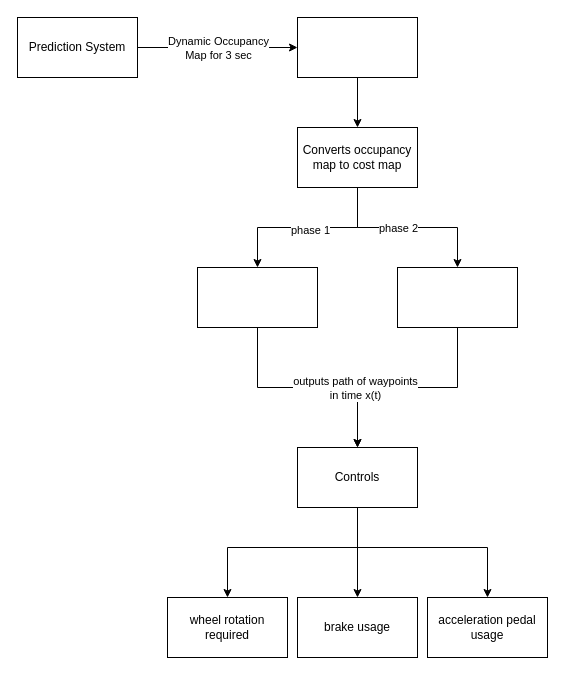
The diagram is 565 pixels wide and 675 high, and some of its shapes have lost their labels. Here are the shapes that lost their labels. From the top down, the centre of each, then its label:
At point 357,47: "Planning System".
At point 257,297: "uses cost map to determine speed for on-rails approach".
At point 457,297: "Uses cost map with RRT to determine best path to take".
